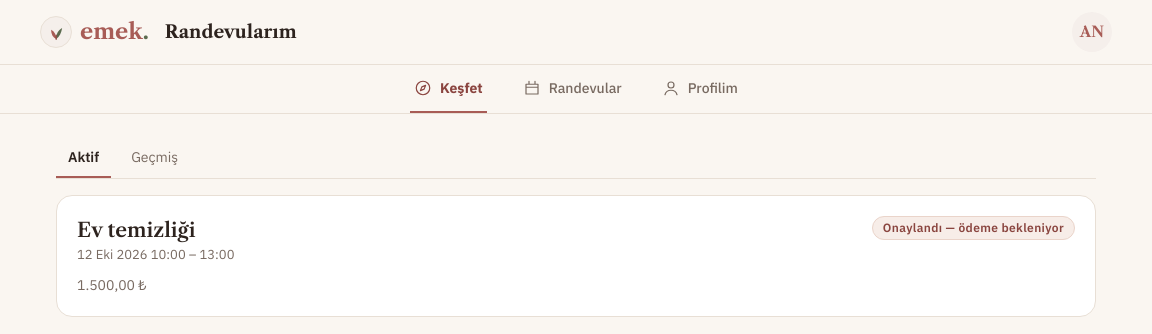
Test: Randevular › yalnızca müşteri olarak alınan randevuları aktif/geçmiş ayırır
Expected: the text "Onaylandı — ödeme bekleniyor" is shown, [872,216,1075,240]
Expected: the number of links "Ev temizliği" is 1, [56,195,1096,317]
Click the tab "Geçmiş" at (155, 158), box [119,138,190,178]
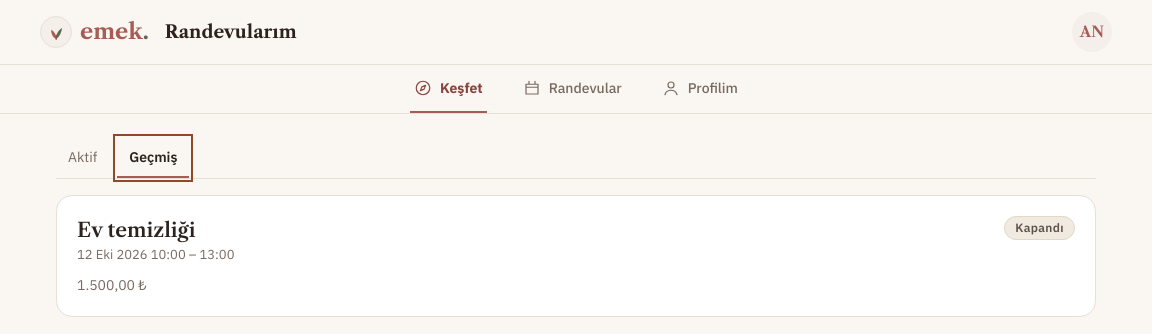
Expected: the number of links "Ev temizliği 12 Eki 2026 10:00 – 13:00 Kapandı 1.500,00 ₺" is 1, [56,195,1096,317]
Result: the text "Kapandı" is shown at [1004,216,1075,240]
